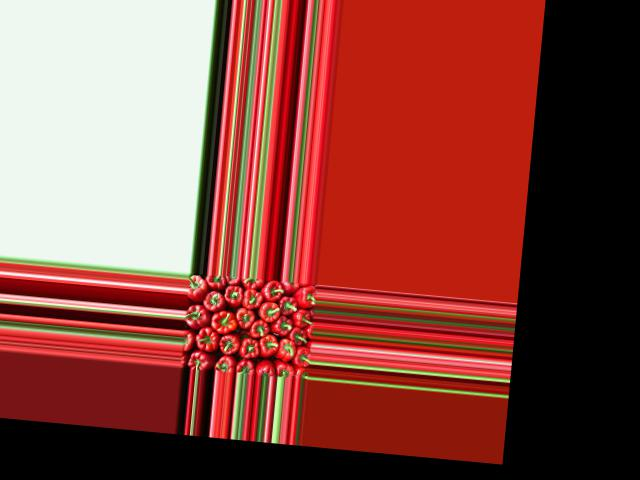bell_pepper: (293, 284, 315, 306)
